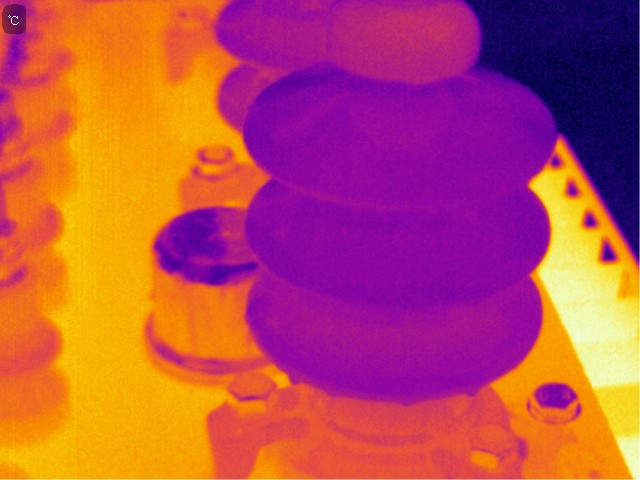Oil: (327, 1, 482, 81), (286, 369, 301, 386), (400, 399, 419, 409), (465, 385, 477, 398)
